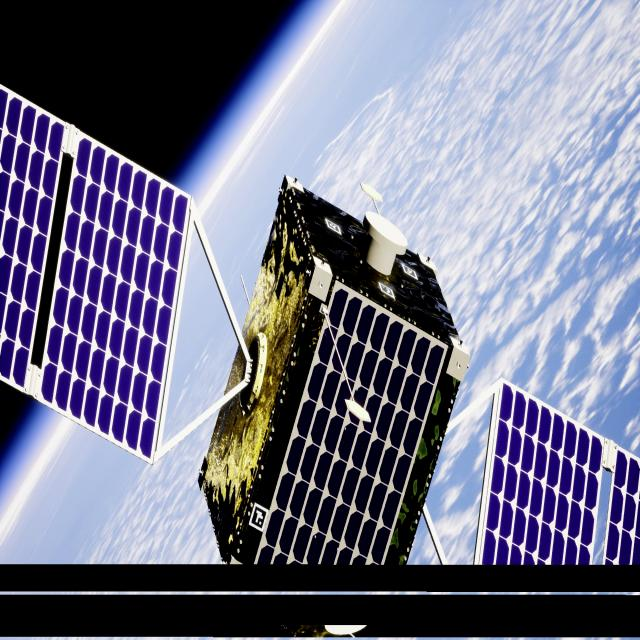satellite: (0, 100, 640, 566)
